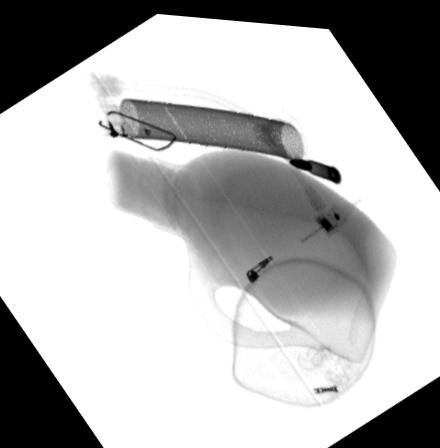Bullet: (285, 150, 343, 179)
